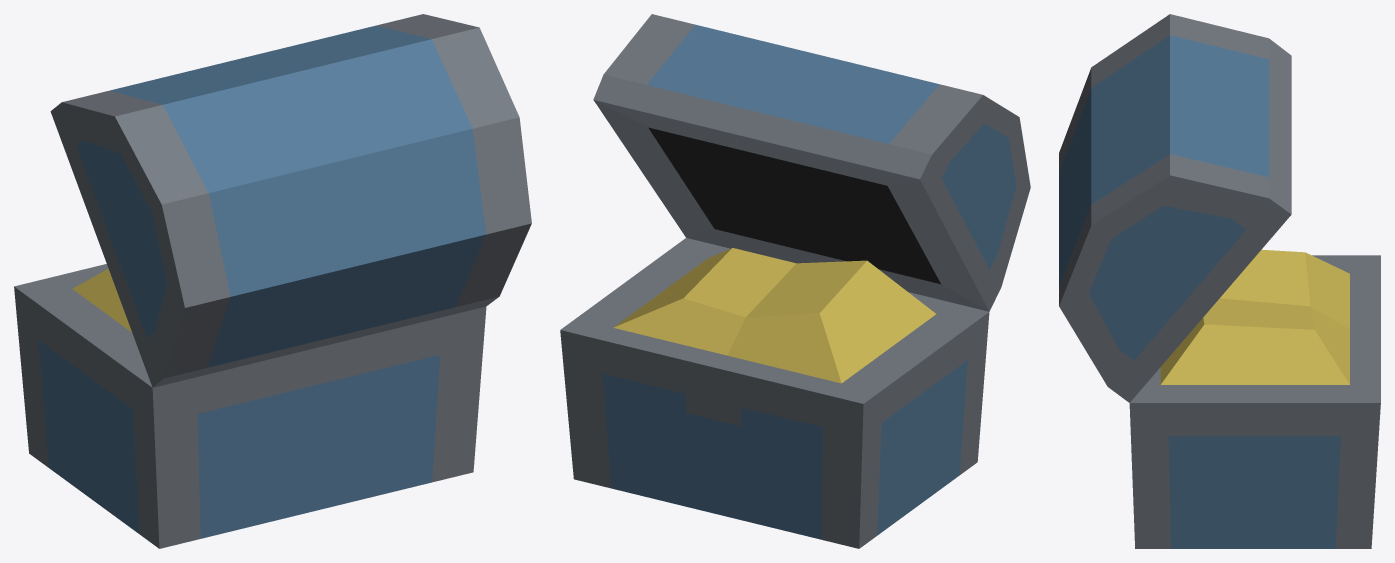
The model's file is chest_open.glb.
The picture shows the model from 3 angles, left to right: view 1: azimuth 30°, elevation 25°; view 2: azimuth 150°, elevation 25°; view 3: azimuth 270°, elevation 25°; orthographic projection. The views are drawn at different scales.
Parts seen in each view (by area): view 1: SM_Prop_TreasureChest_Open_01; view 2: SM_Prop_TreasureChest_Open_01; view 3: SM_Prop_TreasureChest_Open_01.
Boxes of the visible parts, x1=… form: SM_Prop_TreasureChest_Open_01: x1=14, y1=14, x2=531, y2=548; SM_Prop_TreasureChest_Open_01: x1=560, y1=14, x2=1030, y2=548; SM_Prop_TreasureChest_Open_01: x1=1059, y1=14, x2=1380, y2=548.
Size of the model in its own units: 0.6506 by 0.7237 by 0.5485.
Materials: 1 (1 with a texture image).
